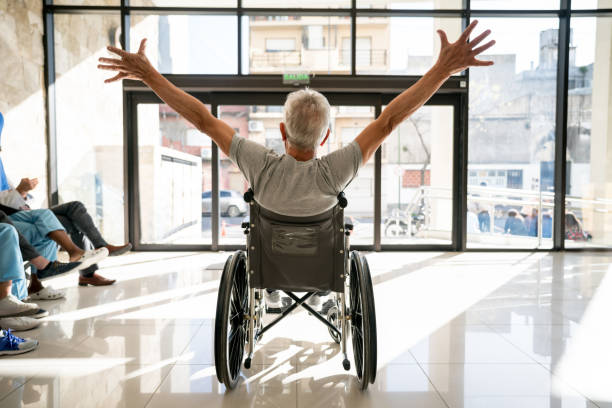wheel_chair: (202, 187, 383, 391)
